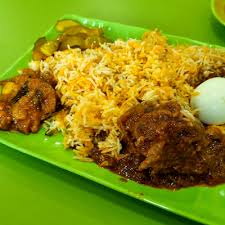briyani: (2, 20, 225, 185)
